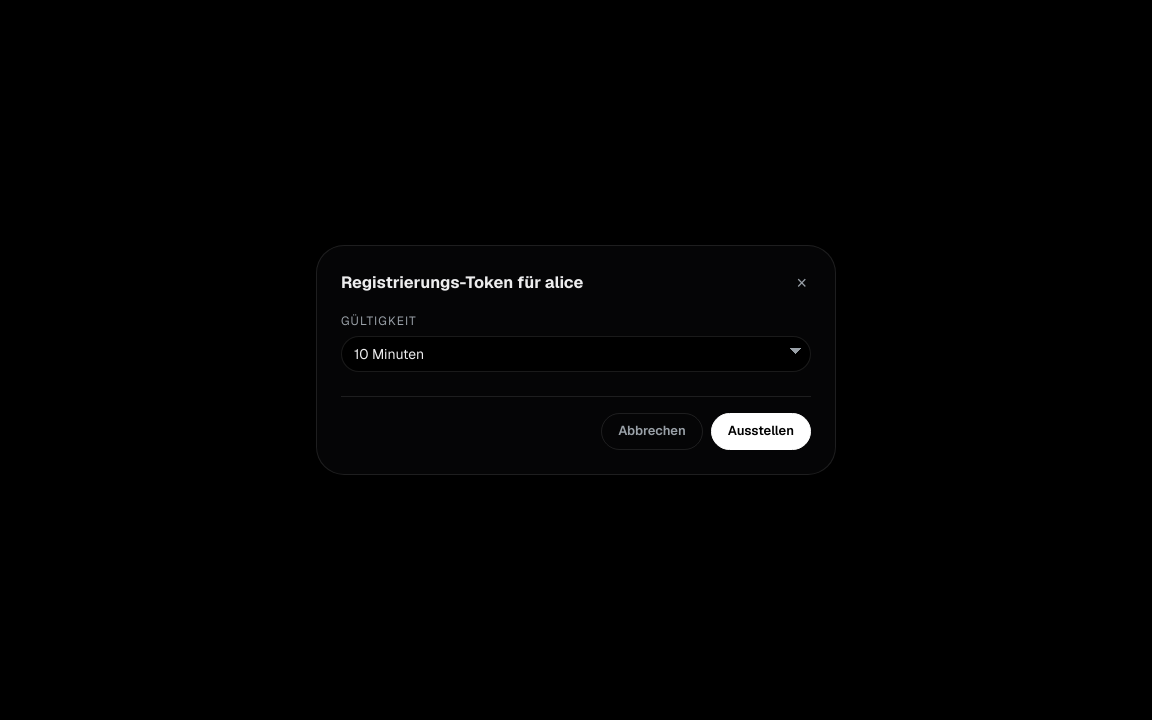
Test: EnrollTokenModal › shows the token once with its expiry in local time, 10 minutes by default
Click the button "Ausstellen".
click(761, 432)  # box [711,413,811,450]
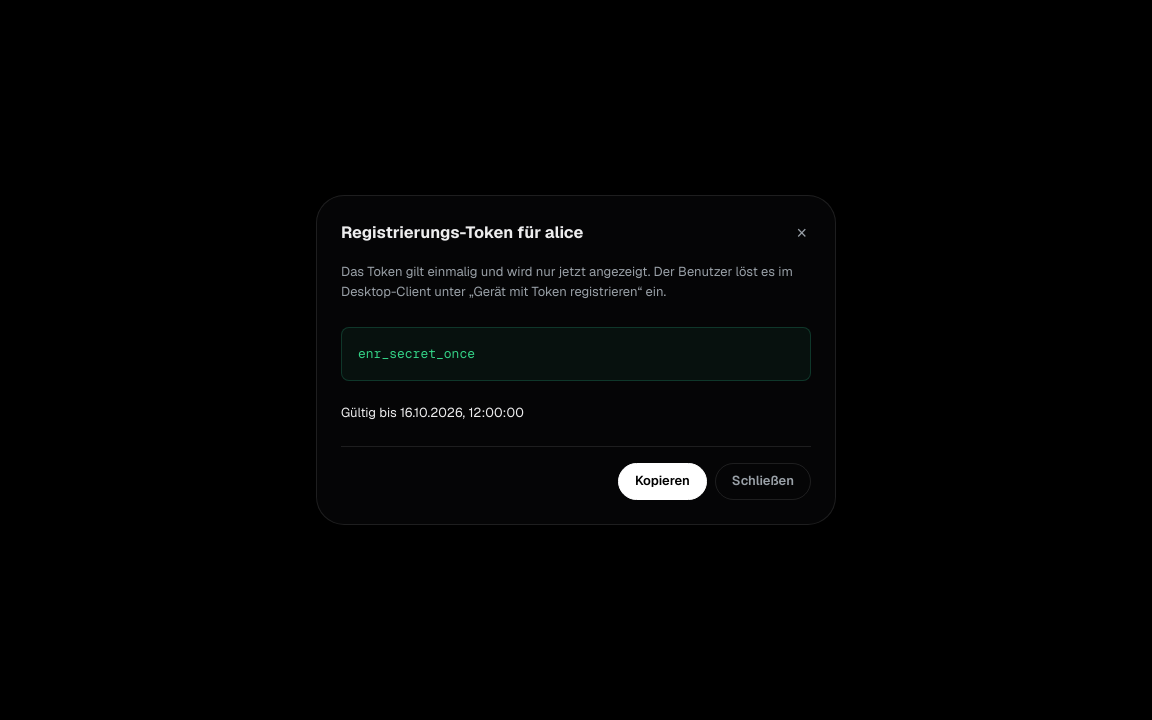
Result: the text with class "key-reveal" reads "enr_secret_once" at [358,345,475,362]
Result: the text "Gerät mit Token registrieren" is shown at [341,263,793,300]
